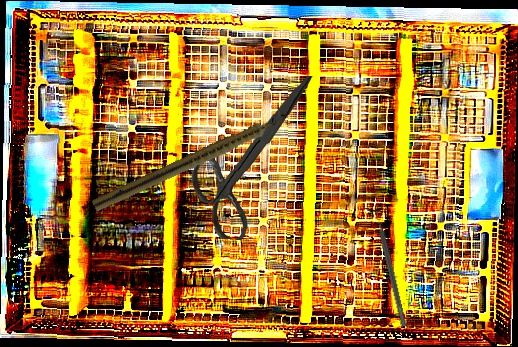Fixation Ring: (364, 203, 414, 329)
Handpiece: (90, 109, 292, 217)
Iris Scissors: (189, 71, 315, 243)
